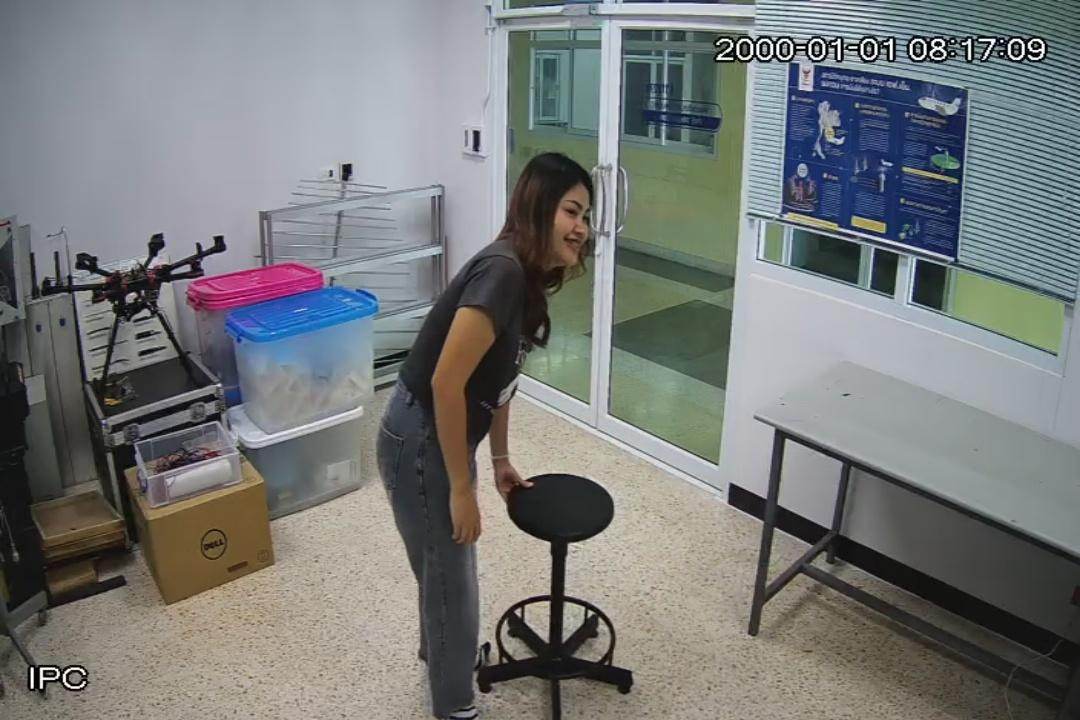normal: (375, 154, 597, 720)
